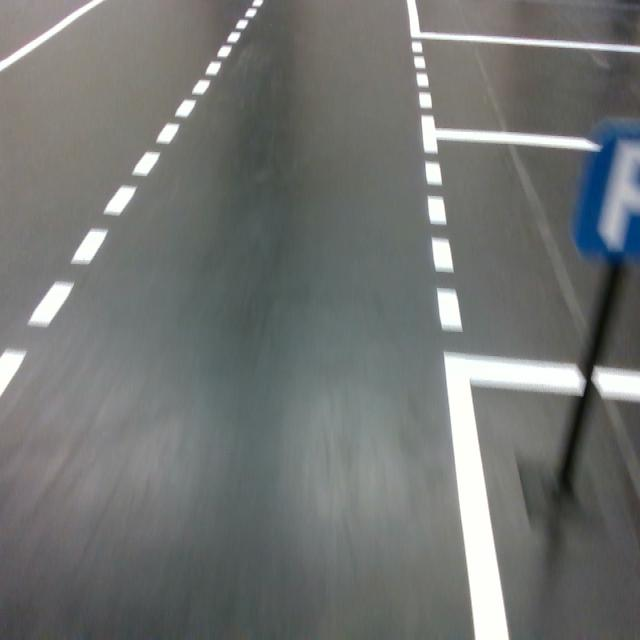parking-sign: (566, 116, 640, 267)
